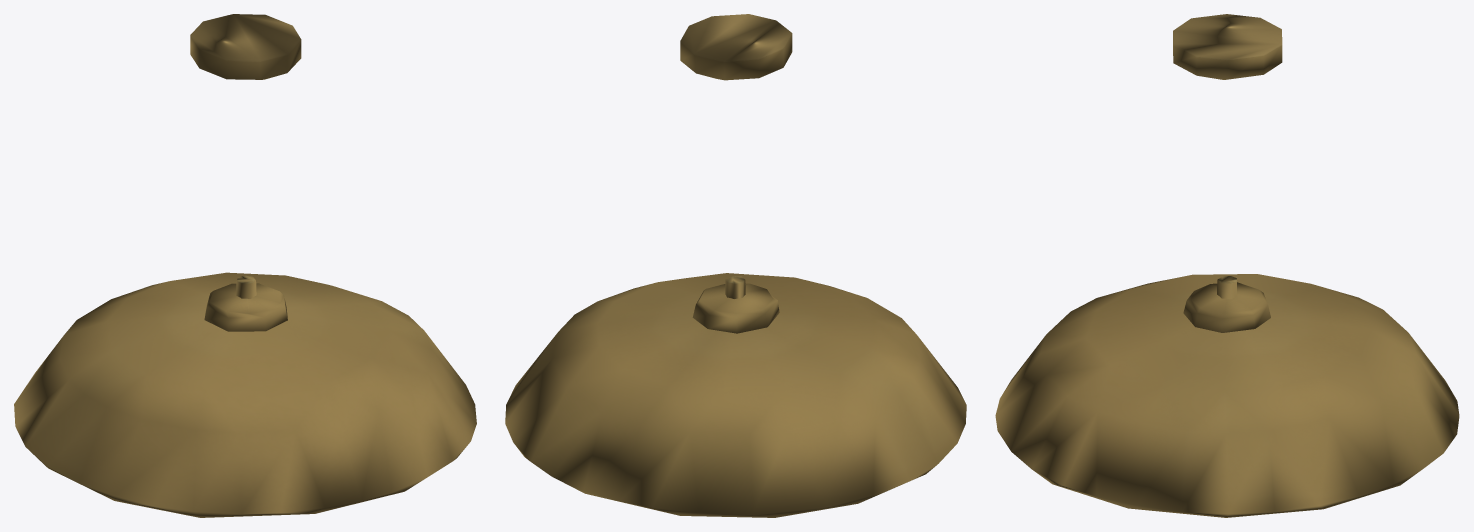
Rendered from pendant_lamp.fbx.
3 views of the same model, side by side, from view 1: azimuth 30°, elevation 25°; view 2: azimuth 150°, elevation 25°; view 3: azimuth 270°, elevation 25° (orthographic).
Parts seen in each view (by area): view 1: Mesh_0; view 2: Mesh_0; view 3: Mesh_0.
Boxes of the visible parts, bbox=[...] form: Mesh_0: bbox=[14, 14, 476, 517]; Mesh_0: bbox=[505, 14, 966, 517]; Mesh_0: bbox=[995, 14, 1459, 517].
Size of the model in its own units: 95.65 by 88.23 by 95.75.
Materials: 1 (1 with a texture image).
